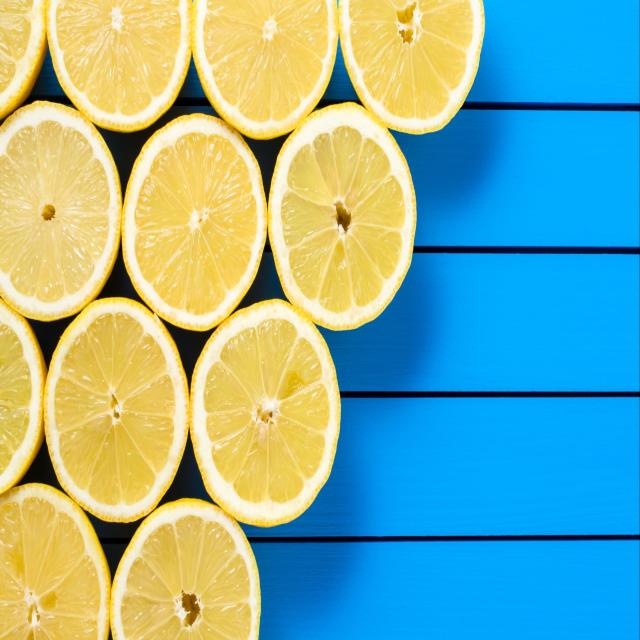lemon: (264, 99, 419, 334)
